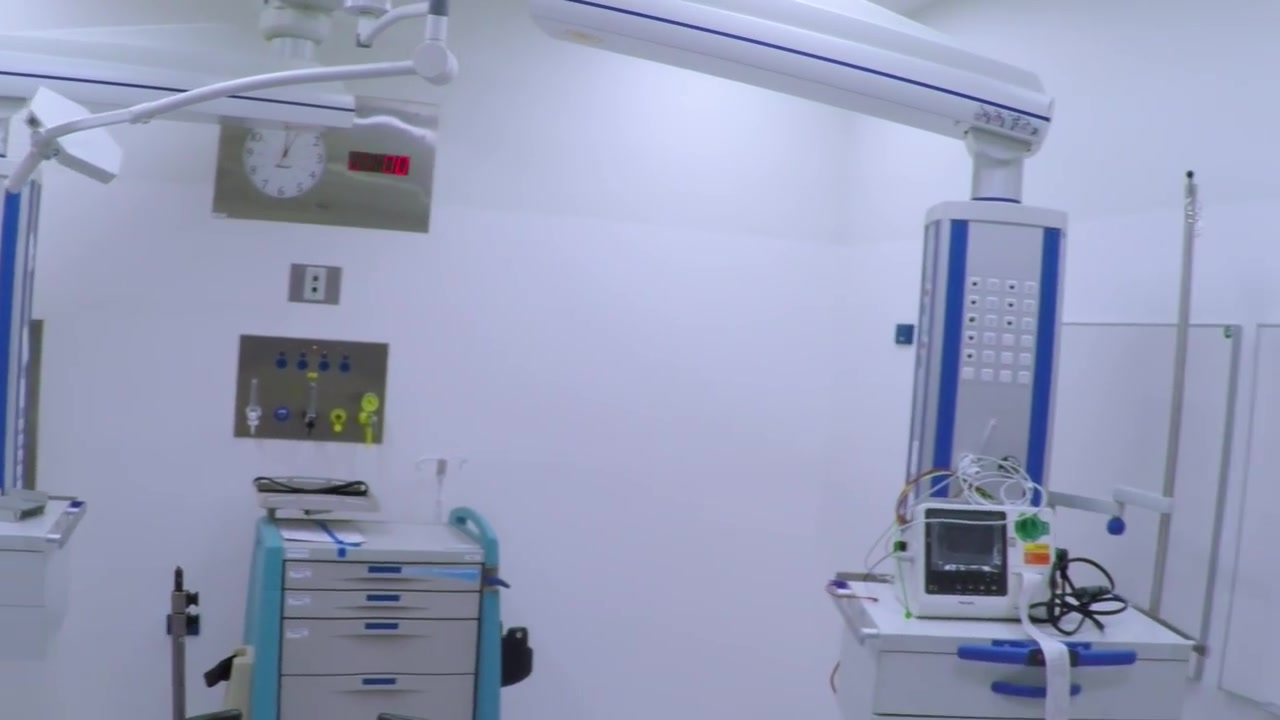handle: (336, 674, 423, 695), (344, 591, 431, 612), (345, 618, 432, 639), (343, 562, 430, 583)
iv_pole: (1144, 167, 1207, 625)
medical_drawer: (823, 566, 1198, 720), (251, 510, 499, 720)
